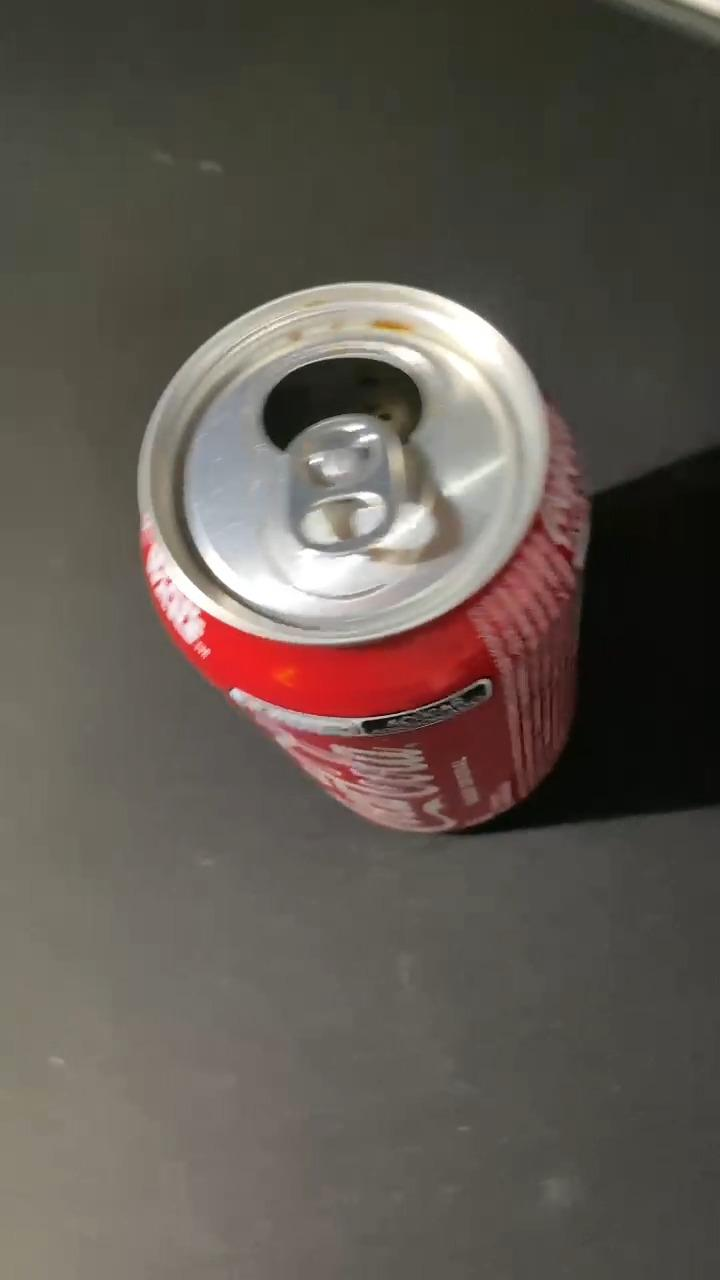coke: (134, 277, 590, 827)
